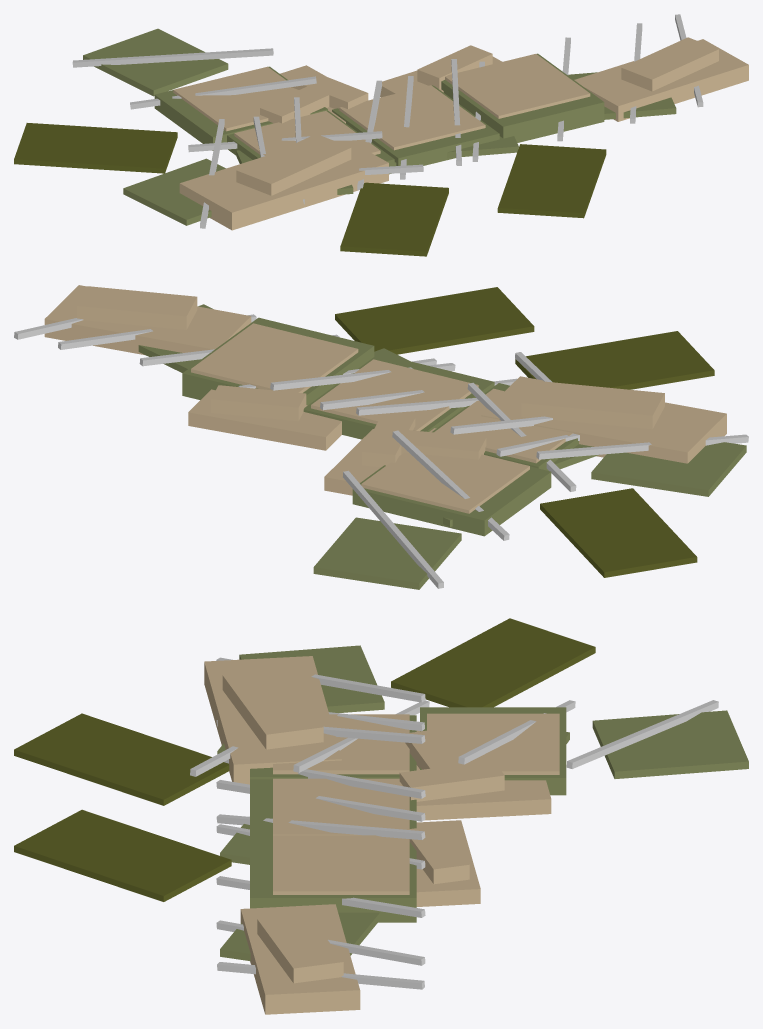
File: SM_HescoRemate_v4_Red_e3_Brecha_LOD0.fbx
3 views of the same model, one above another, from view 1: azimuth 30°, elevation 25°; view 2: azimuth 150°, elevation 25°; view 3: azimuth 270°, elevation 25° (orthographic). The views are drawn at different scales.
Visible parts, largest first — view 1: SM_hesco_piezas_v39_LOD0; view 2: SM_hesco_piezas_v39_LOD0; view 3: SM_hesco_piezas_v39_LOD0.
Part boxes in pixels (x1,y1,x2,y2): SM_hesco_piezas_v39_LOD0: (14,14,748,256); SM_hesco_piezas_v39_LOD0: (14,285,748,589); SM_hesco_piezas_v39_LOD0: (14,618,748,1014).
Size of the model in its own units: 6.75 by 0.3263 by 5.38.
